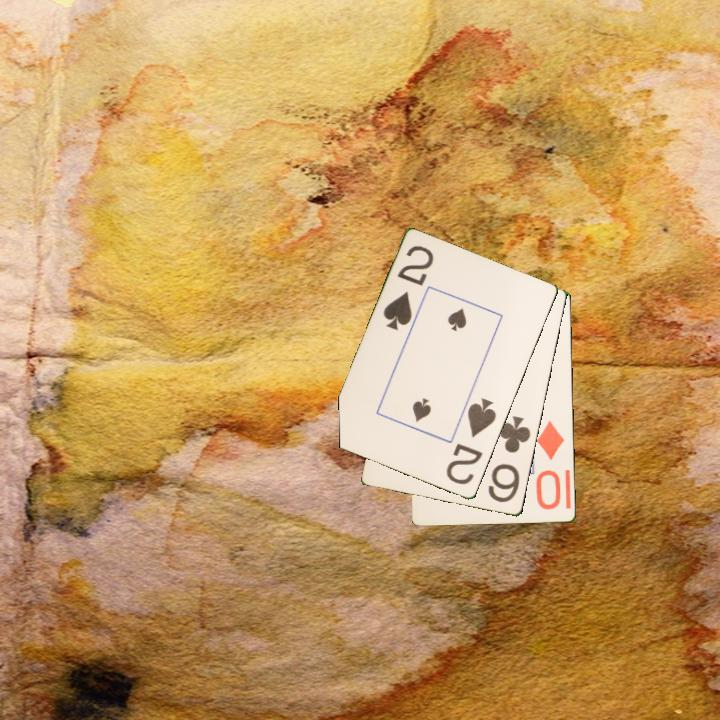10d: (533, 417, 568, 513)
2s: (443, 394, 499, 488), (380, 242, 437, 334)
6c: (485, 412, 534, 506)
